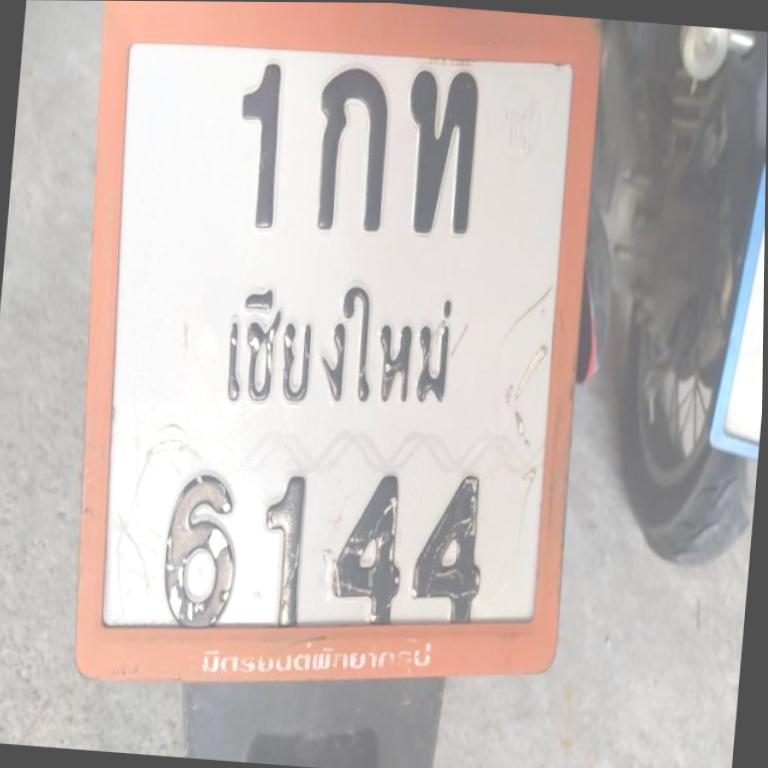license plate: (49, 0, 614, 689), (703, 153, 766, 455)
